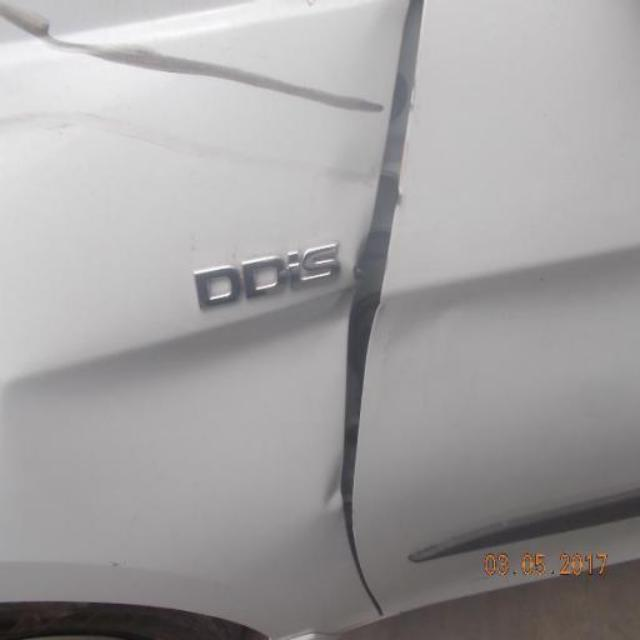dislocated part: (328, 5, 433, 625), (2, 1, 387, 121)
